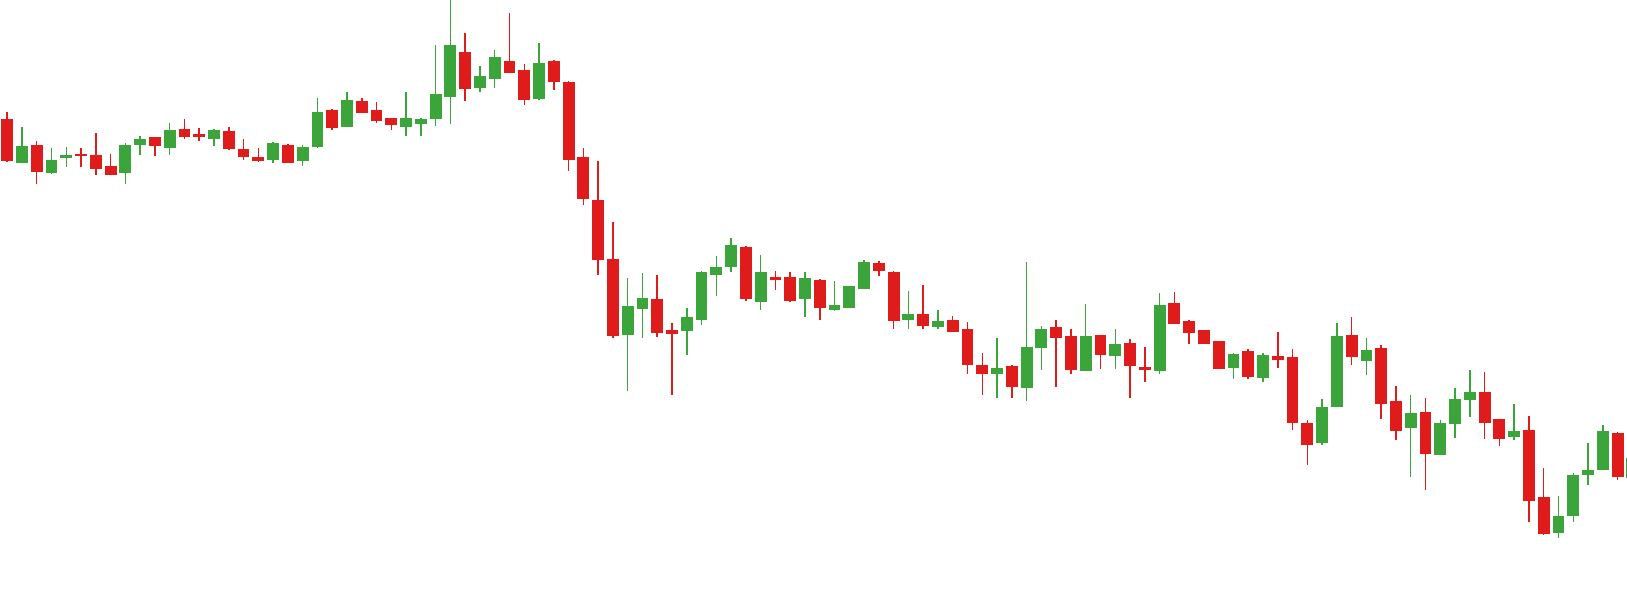sell: (1273, 318, 1359, 403)
